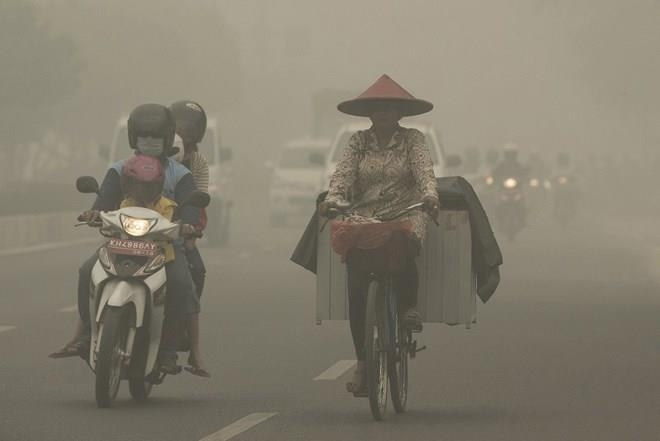bicycle: (324, 196, 438, 420)
car: (266, 139, 320, 225)
motorcycle: (78, 208, 180, 403)
